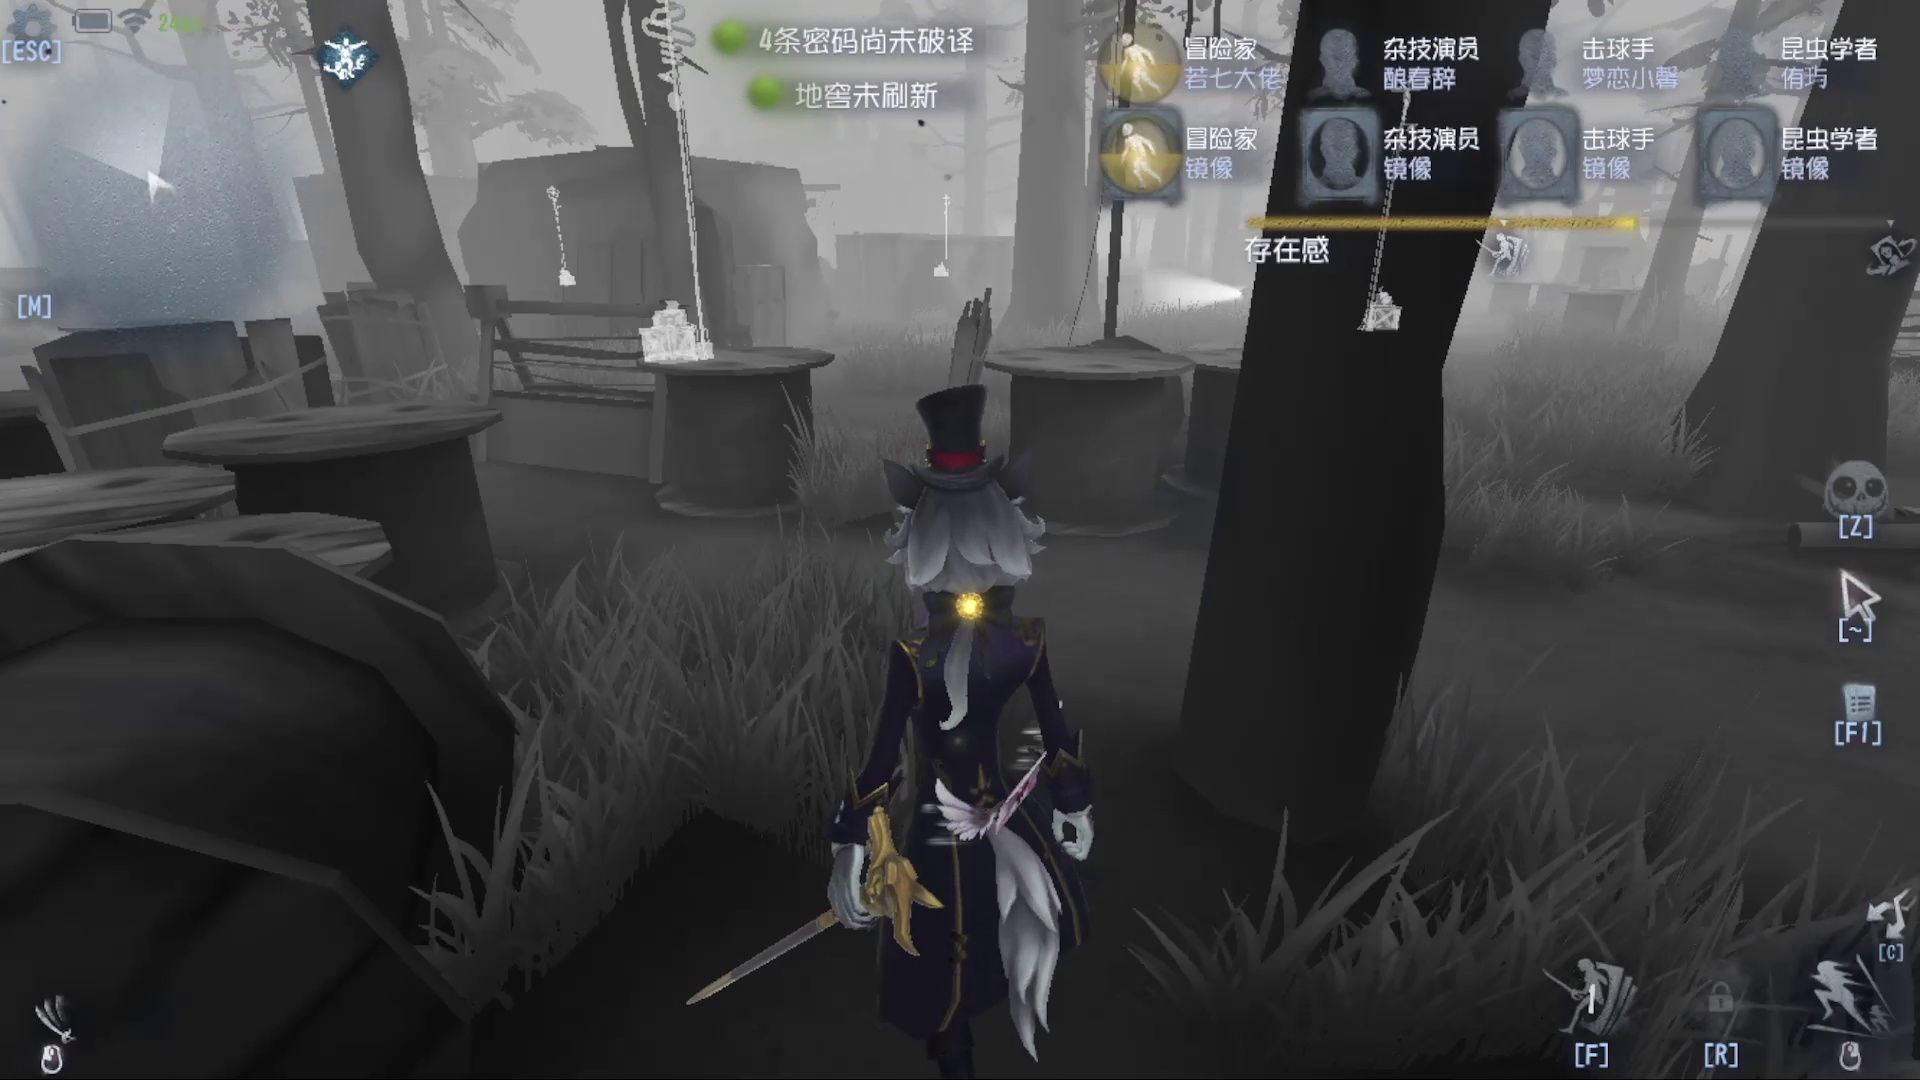密码机: (611, 28, 723, 372), (924, 191, 978, 287)
